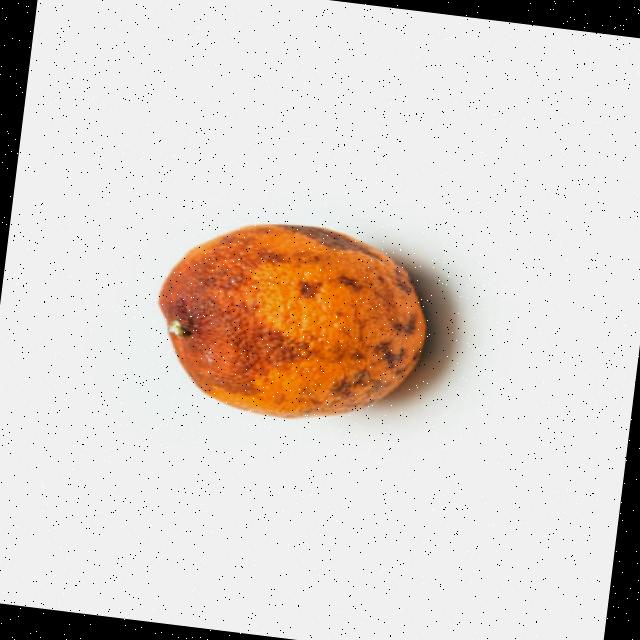overripe: (136, 200, 444, 437)
